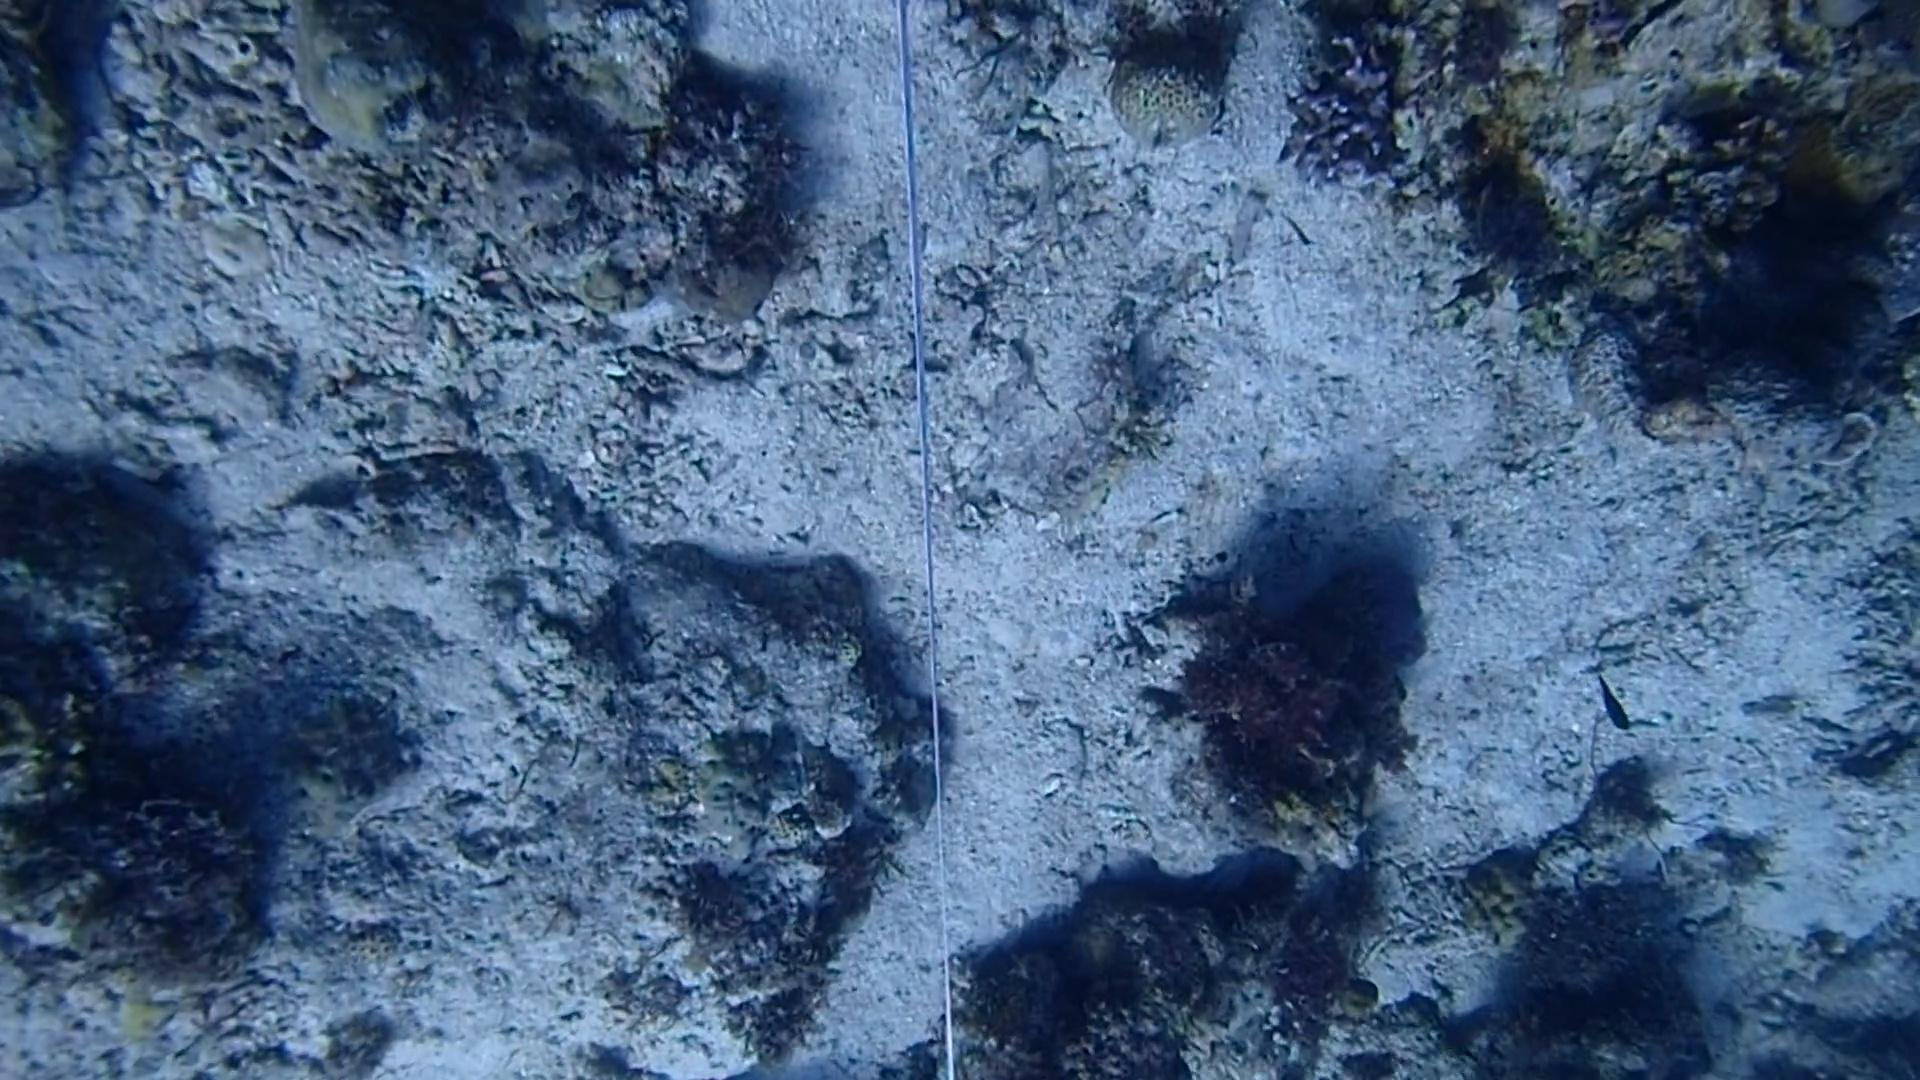Dark Fish: (1585, 662, 1646, 745)
